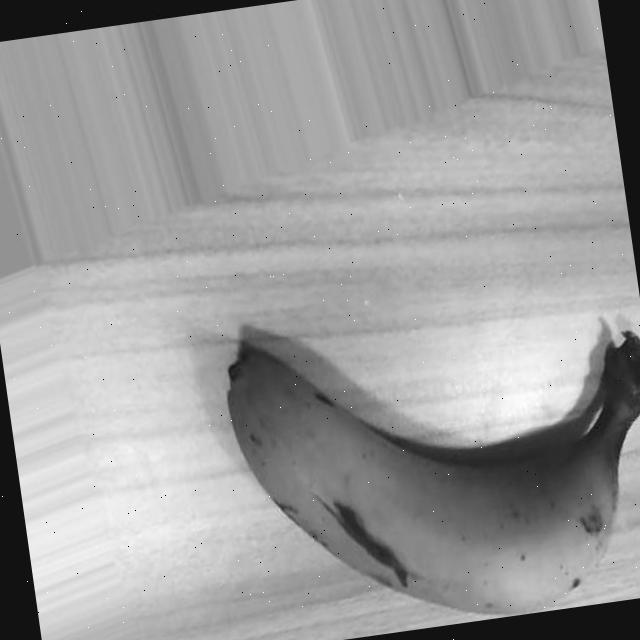Unripe: (218, 283, 640, 640)
